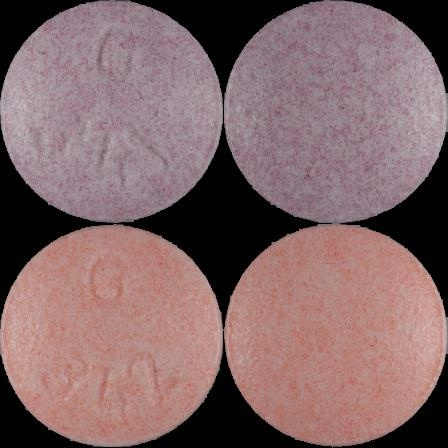0093-5206: (0, 0, 224, 224)
